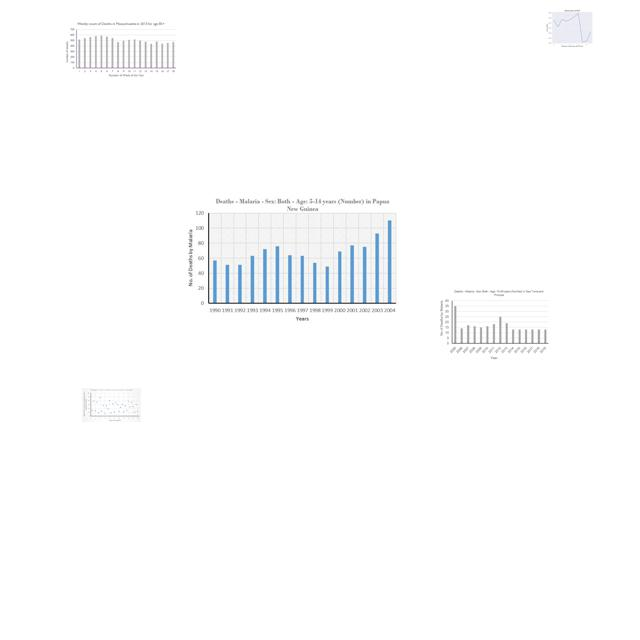Graph: (181, 193, 400, 323), (438, 288, 551, 361), (64, 20, 178, 78), (542, 7, 601, 48), (82, 388, 141, 422)
